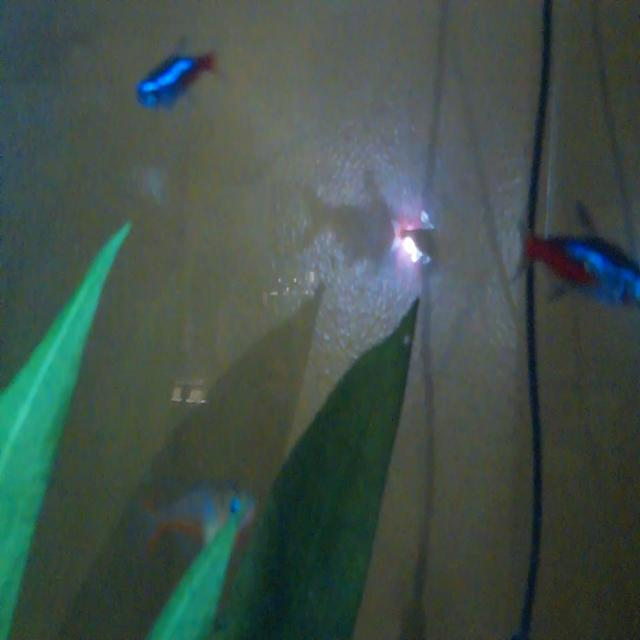fish: (511, 200, 640, 323), (126, 26, 234, 118)
